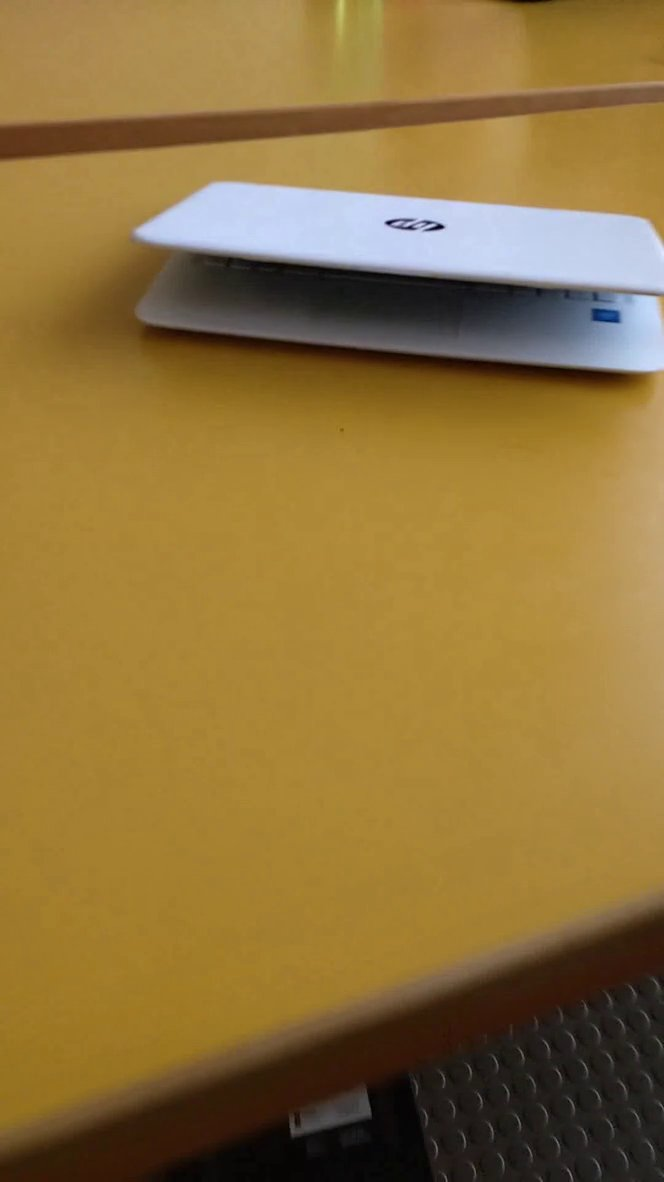laptop: (120, 161, 664, 403)
